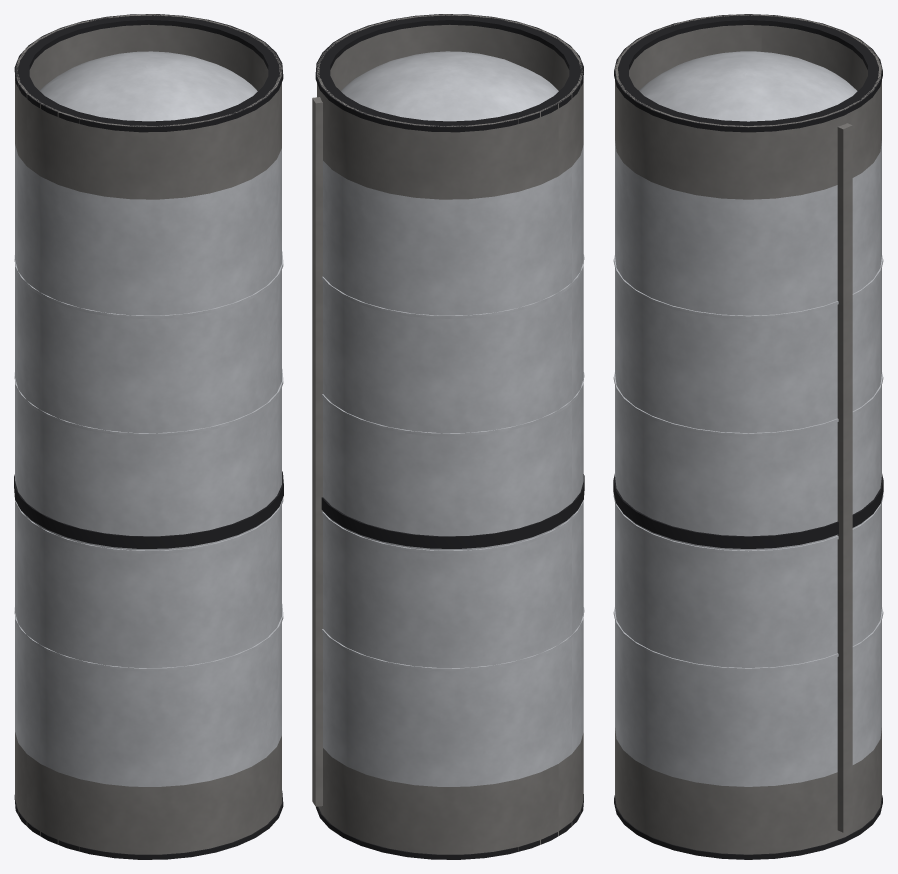
Rendered from tank01_methalox_l.glb.
The picture shows the model from 3 angles, left to right: view 1: azimuth 30°, elevation 25°; view 2: azimuth 150°, elevation 25°; view 3: azimuth 270°, elevation 25°; orthographic projection.
Visible parts, largest first — view 1: tank, skirts, stack_flanges, ring_frames, bulkhead_band; view 2: tank, skirts, stack_flanges, raceway, ring_frames, bulkhead_band; view 3: tank, skirts, raceway, stack_flanges, ring_frames, bulkhead_band.
Part boxes in pixels (x1,y1,x2,y2): tank: (15,51,281,786); skirts: (15,14,281,854); stack_flanges: (14,14,283,859); ring_frames: (14,251,283,671); bulkhead_band: (14,471,283,548); tank: (323,51,583,786); skirts: (317,14,583,854); stack_flanges: (315,14,583,859); raceway: (312,97,322,806); ring_frames: (322,254,584,671); bulkhead_band: (321,474,584,548); tank: (615,51,881,786); skirts: (615,14,881,854); raceway: (837,123,852,832); stack_flanges: (614,14,882,859); ring_frames: (613,255,883,671); bulkhead_band: (613,474,883,548).
Bounding box in the file's own units: 3.8 × 11.36 × 3.8.
Materials: 3 (2 with a texture image).
